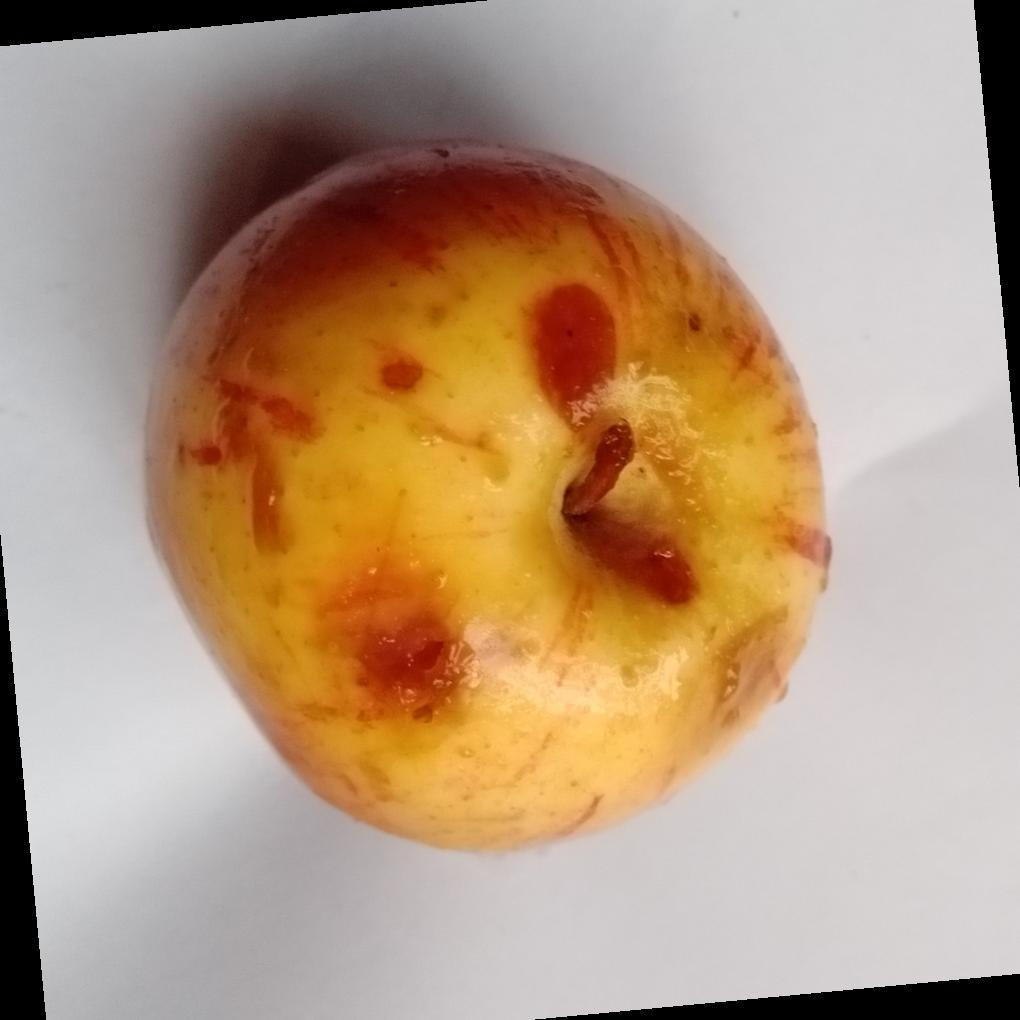FreshOrange: (141, 141, 833, 858)
